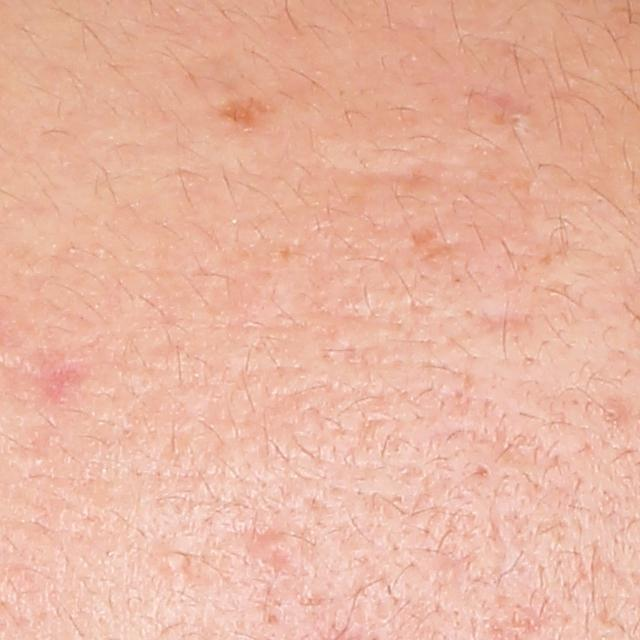atrophic_scar: (233, 525, 299, 583), (473, 292, 534, 341), (356, 159, 435, 191), (411, 224, 456, 268)
comedo: (157, 547, 189, 578), (602, 403, 622, 424)
